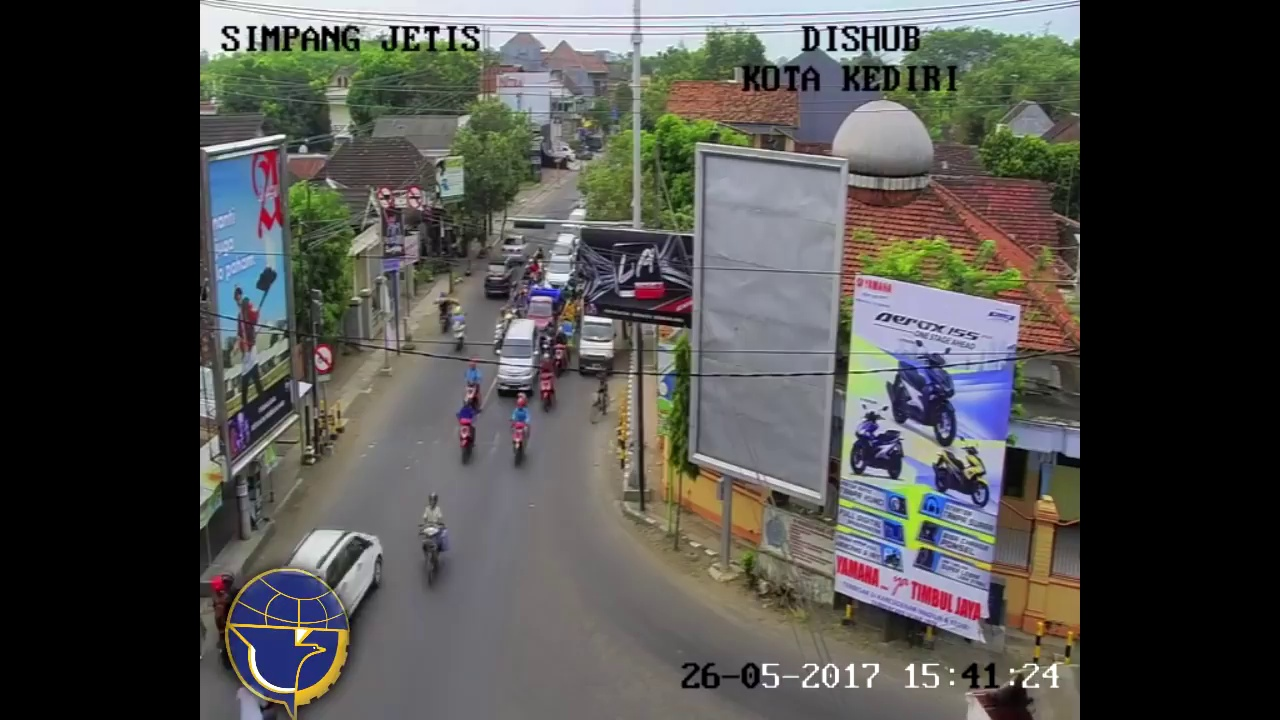car: (284, 527, 389, 632), (495, 320, 540, 398), (580, 316, 616, 377), (525, 296, 555, 345), (484, 255, 512, 298), (545, 256, 574, 297), (552, 234, 579, 263), (502, 232, 526, 262)
motorbike: (213, 575, 238, 669), (424, 496, 450, 585), (509, 398, 532, 467), (538, 352, 558, 415), (460, 399, 478, 465), (551, 329, 569, 380), (465, 363, 480, 416), (494, 308, 509, 354), (452, 308, 466, 354), (439, 290, 452, 337)
